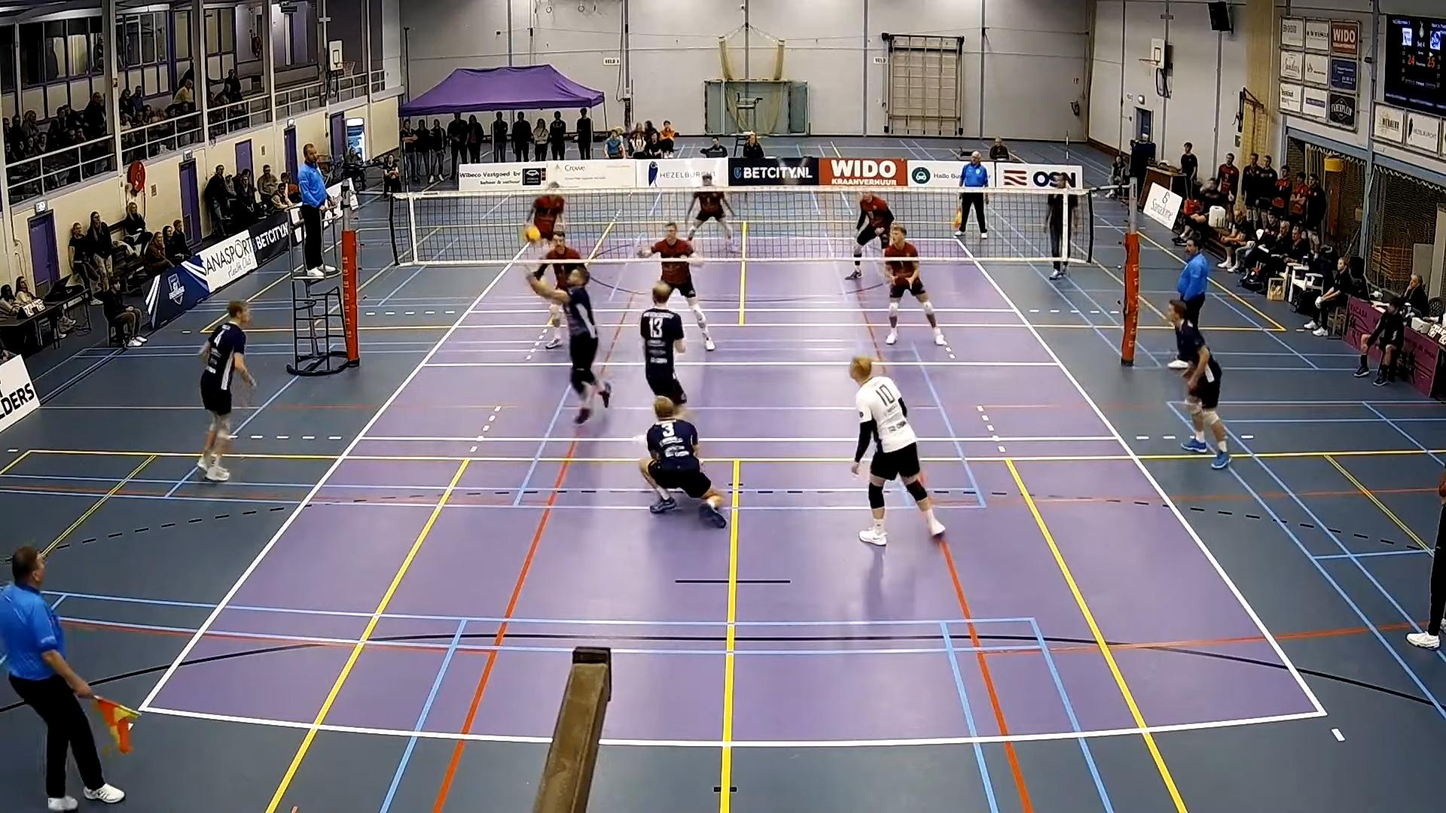Player: (850, 358, 944, 545), (639, 396, 726, 528), (1167, 300, 1230, 469), (197, 301, 254, 481), (638, 222, 715, 350), (883, 223, 945, 346), (640, 281, 685, 407), (846, 193, 893, 279), (686, 173, 732, 244), (534, 230, 584, 290), (529, 181, 565, 242)
Set: (520, 260, 614, 426)
ball: (528, 224, 541, 243)
